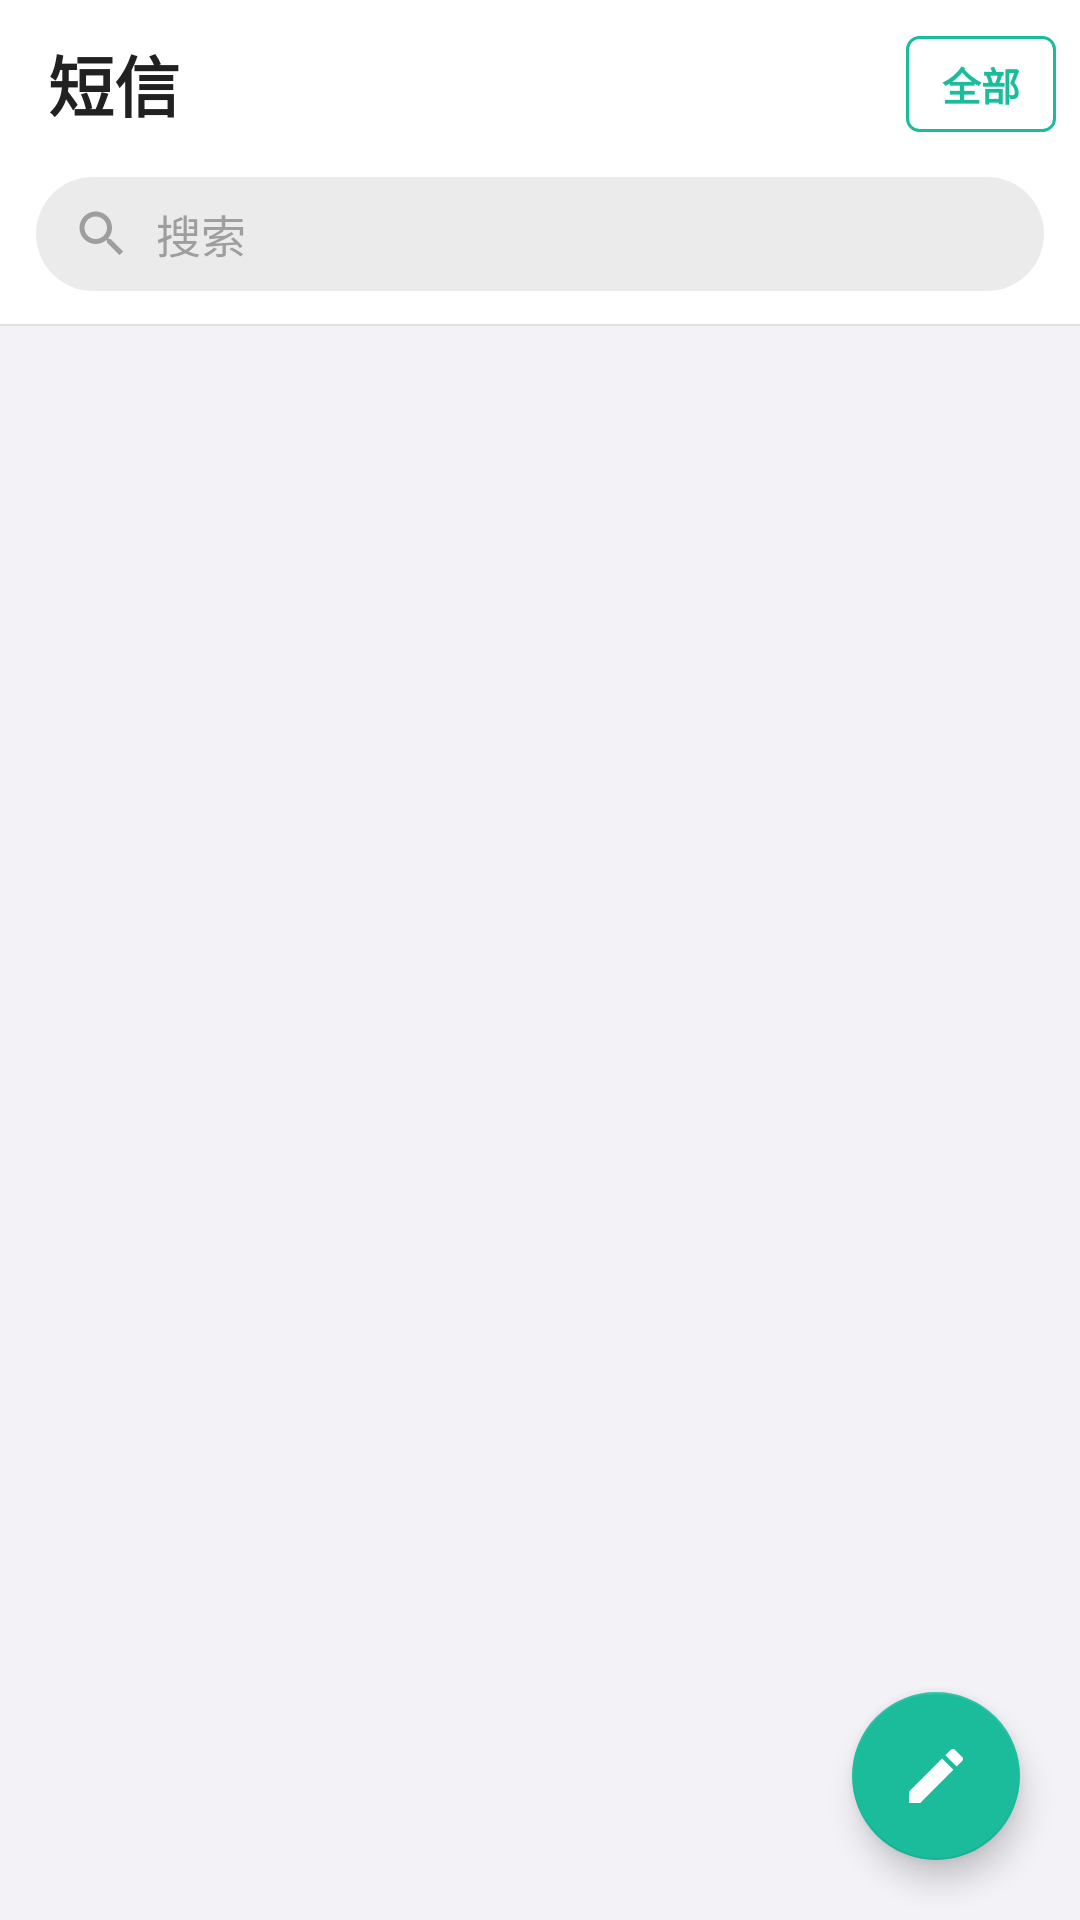

Where icons sit on this 1080 x 1920 app screen, as bbox=[x1, y1, x2, y2]:
search: bbox=[79, 211, 123, 255]
新建短信: bbox=[852, 1692, 1020, 1860]
